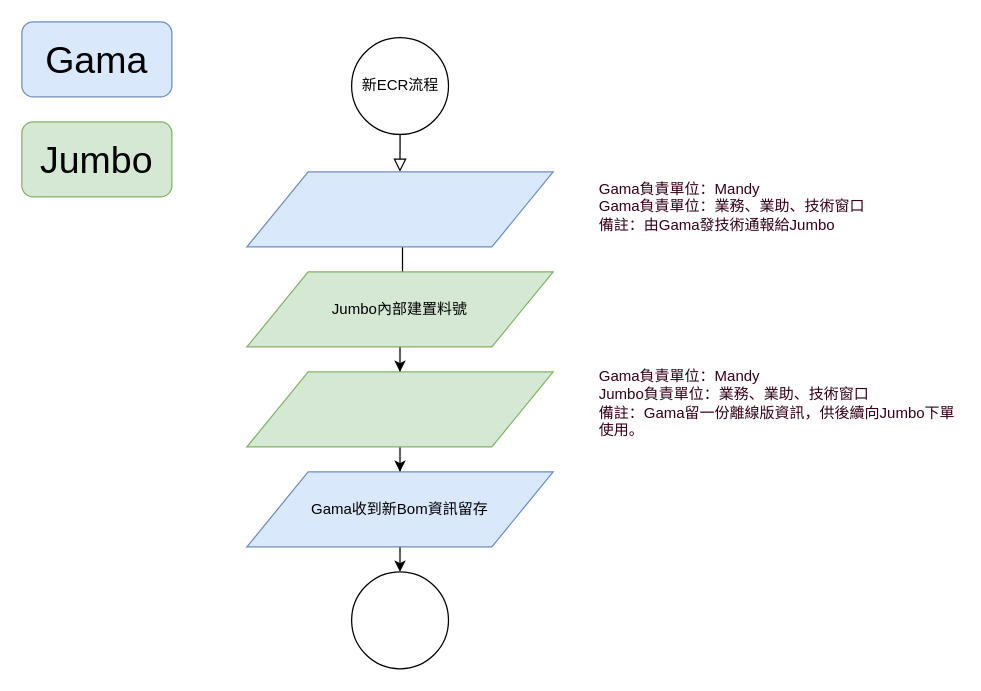
This 981x691 diagram has some shape labels left out. The shapes that lost their labels are listed below. From the top down, each one's centre as x and y in pixels, then its label:
point (399, 209): Gama ECR完成後，發技術通報
point (399, 409): Jumbo發信提供離線版Bom資訊
point (399, 620): 結束
